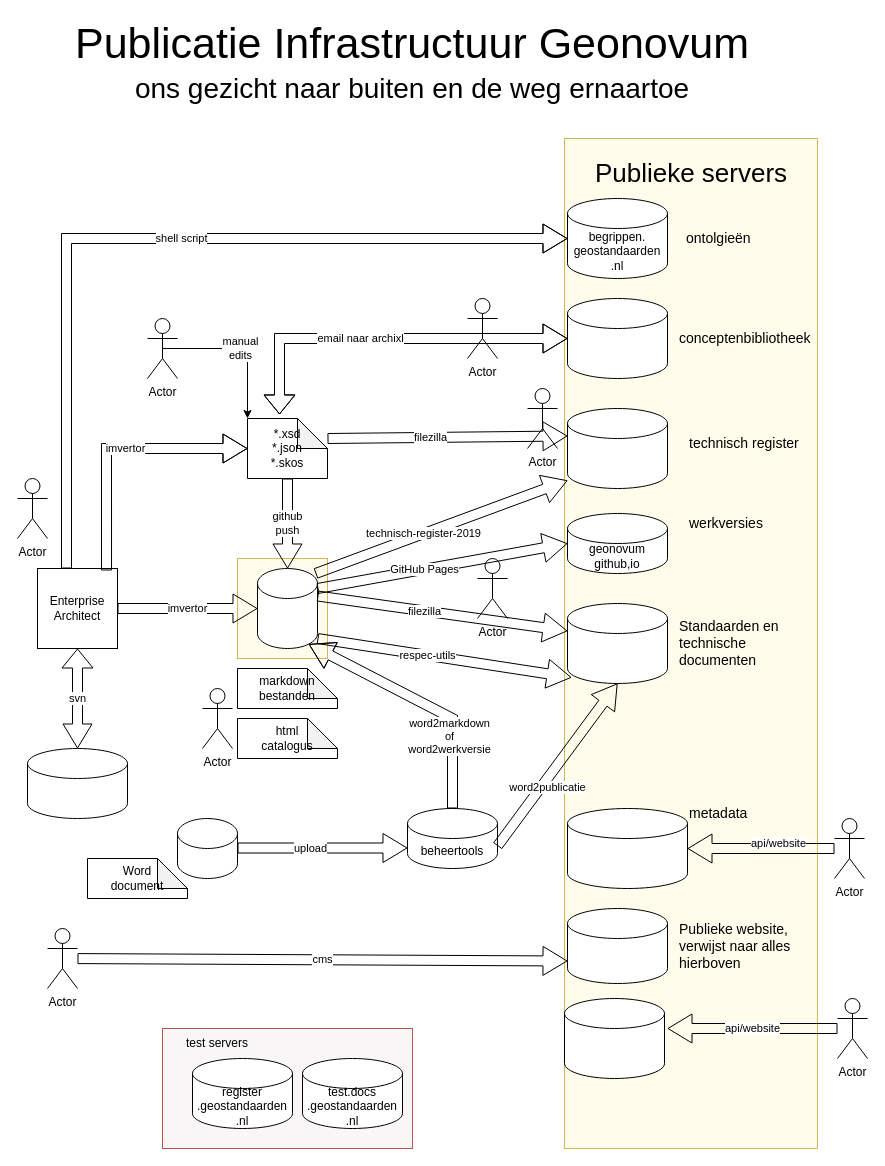
This 885x1166 diagram has some shape labels left out. Each missing label, with the centre of its shape:
"definities .geostandaarden .nl" goes at point (617, 338).
"docs. geostandaarden. nl" goes at point (617, 643).
"GitHub repo" goes at point (287, 608).
"MS teams" goes at point (207, 848).
"register. geostandaarden. nl" goes at point (617, 448).
"svn .geostandaarden .nl" goes at point (77, 783).
"validaties. geostandaarden .nl" goes at point (614, 1038).
"www. nationaalgeoregister .nl" goes at point (627, 848).
"www.geonovum.nl" goes at point (617, 946).
